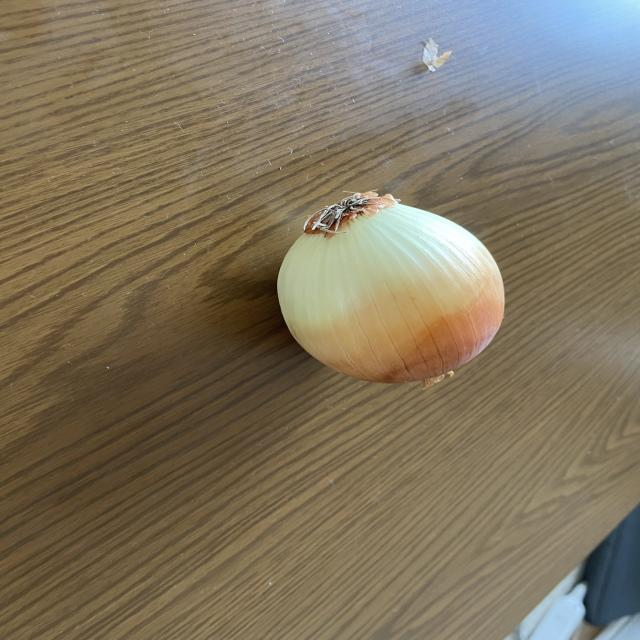onion: (273, 186, 512, 388)
